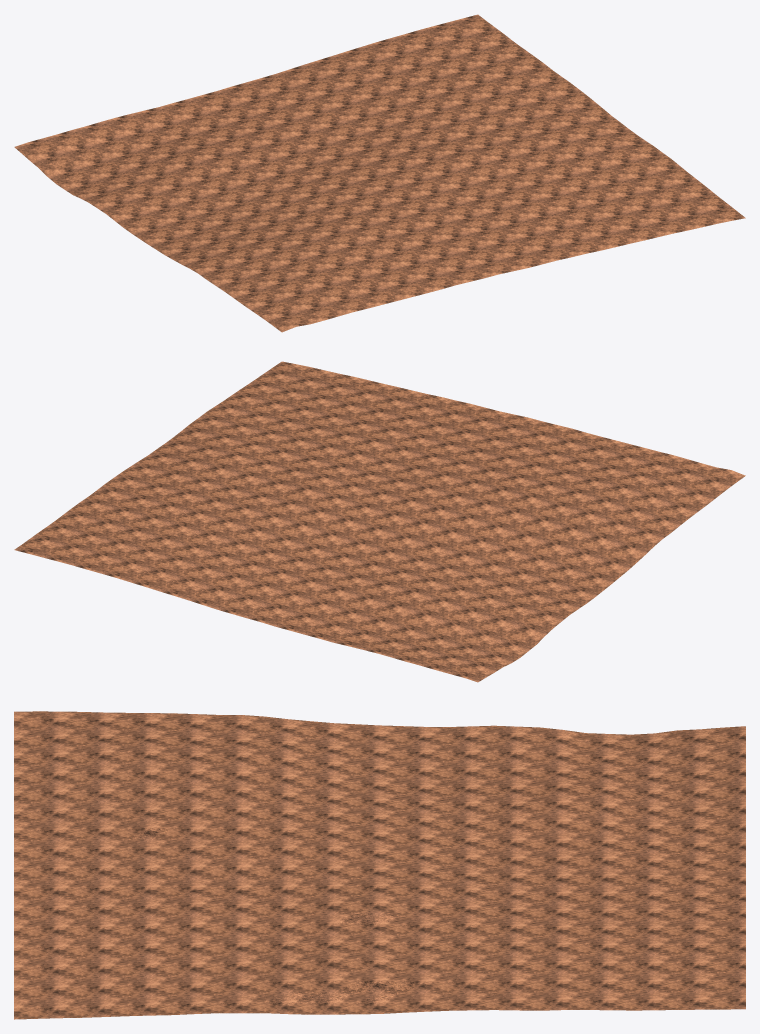
Rendered from terrain_11_21.dae.
3 views of the same model, one above another, from view 1: azimuth 30°, elevation 25°; view 2: azimuth 150°, elevation 25°; view 3: azimuth 270°, elevation 25° (orthographic). The views are drawn at different scales.
Visible parts, largest first — view 1: terrain_11_21-node; view 2: terrain_11_21-node; view 3: terrain_11_21-node.
Part boxes in pixels (x1,y1,x2,y2): terrain_11_21-node: (14, 14, 745, 332); terrain_11_21-node: (14, 361, 745, 682); terrain_11_21-node: (14, 711, 745, 1019).
Bounding box in the file's own units: 128 × 128 × 6.91.
1 material, 1 textured.
